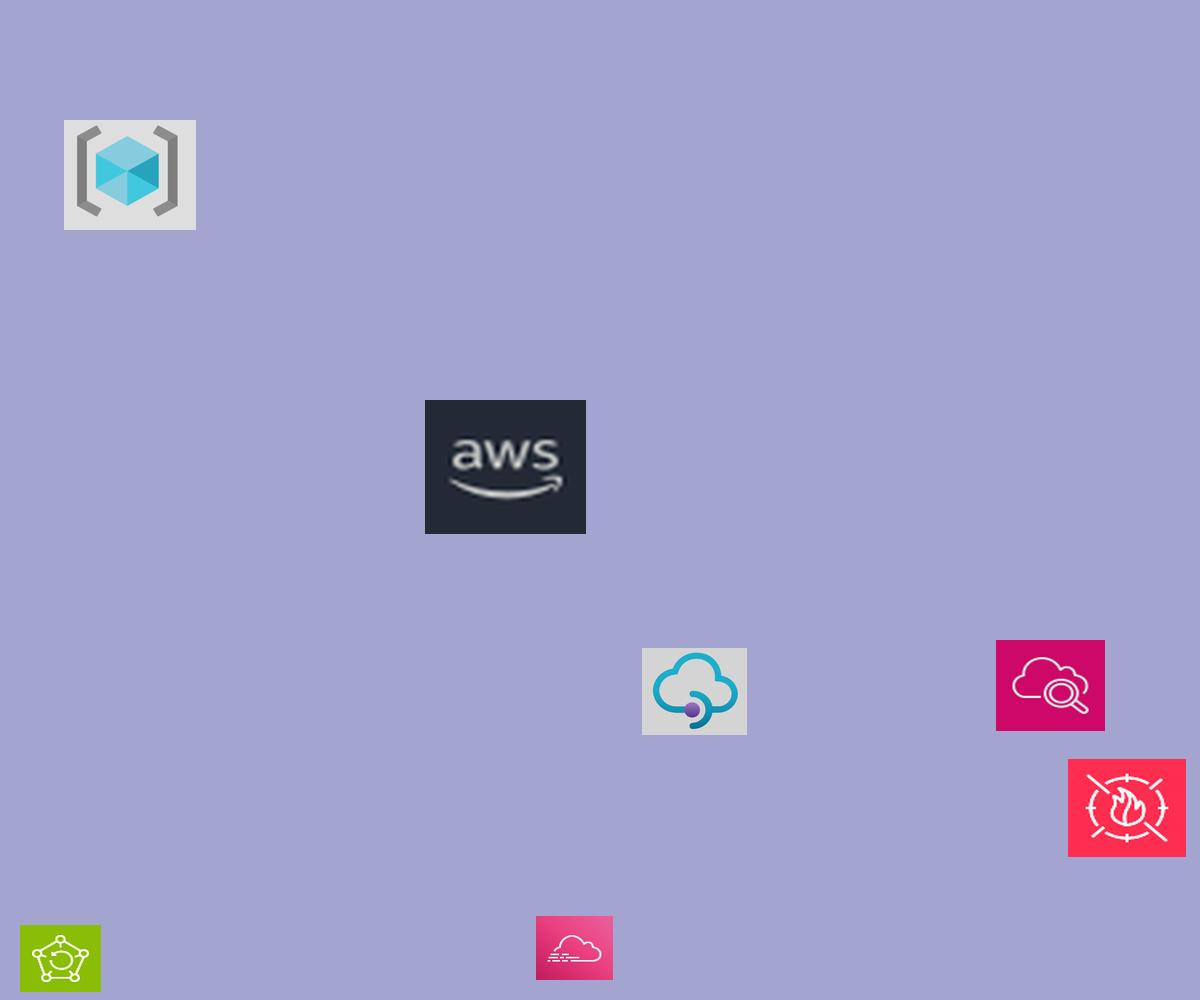AWS-Backup: (20, 925, 101, 992)
AWS-Cloud-logo: (425, 400, 586, 534)
AWS-CloudTrail: (536, 916, 613, 980)
AWS-CloudWatch: (996, 640, 1105, 731)
AWS-WAF: (1068, 759, 1186, 857)
Azure_api_gateway: (642, 648, 747, 735)
Azure_resource_group: (64, 120, 196, 230)
